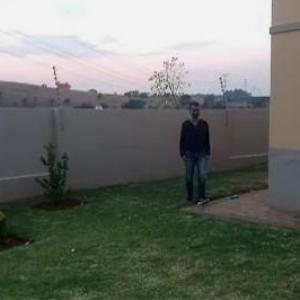follow: (175, 98, 213, 216)
